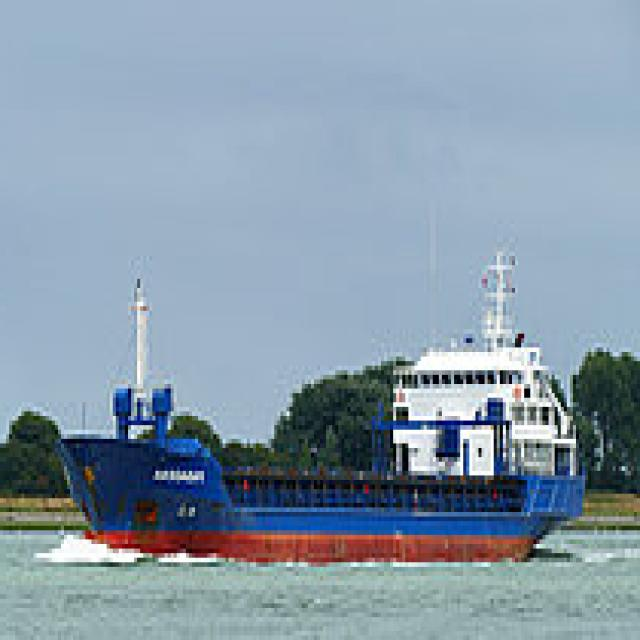Cargo: (61, 233, 591, 562)
